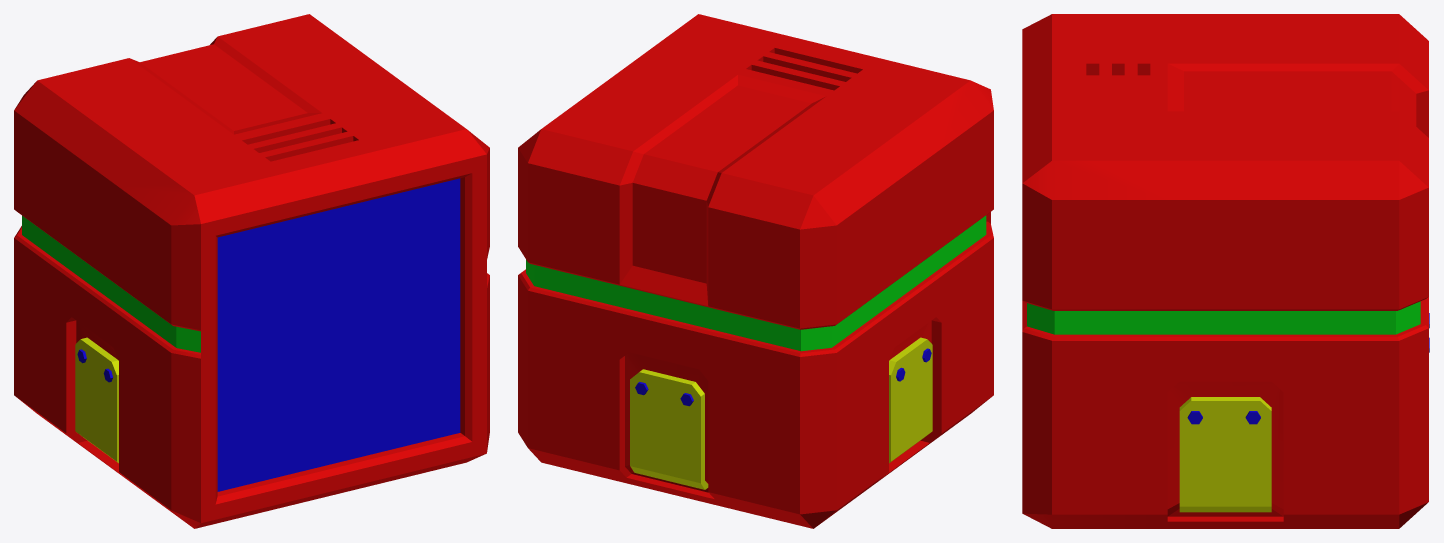
The model's file is display box_02.fbx.
The picture shows the model from 3 angles, left to right: view 1: azimuth 30°, elevation 25°; view 2: azimuth 150°, elevation 25°; view 3: azimuth 270°, elevation 25°; orthographic projection. The views are drawn at different scales.
Parts seen in each view (by area): view 1: Object002; view 2: Object002; view 3: Object002.
Boxes of the visible parts, bbox=[...] form: Object002: bbox=[14, 14, 489, 528]; Object002: bbox=[518, 14, 993, 528]; Object002: bbox=[1022, 14, 1429, 528].
Bounding box in the file's own units: 10 × 10 × 10.02.
